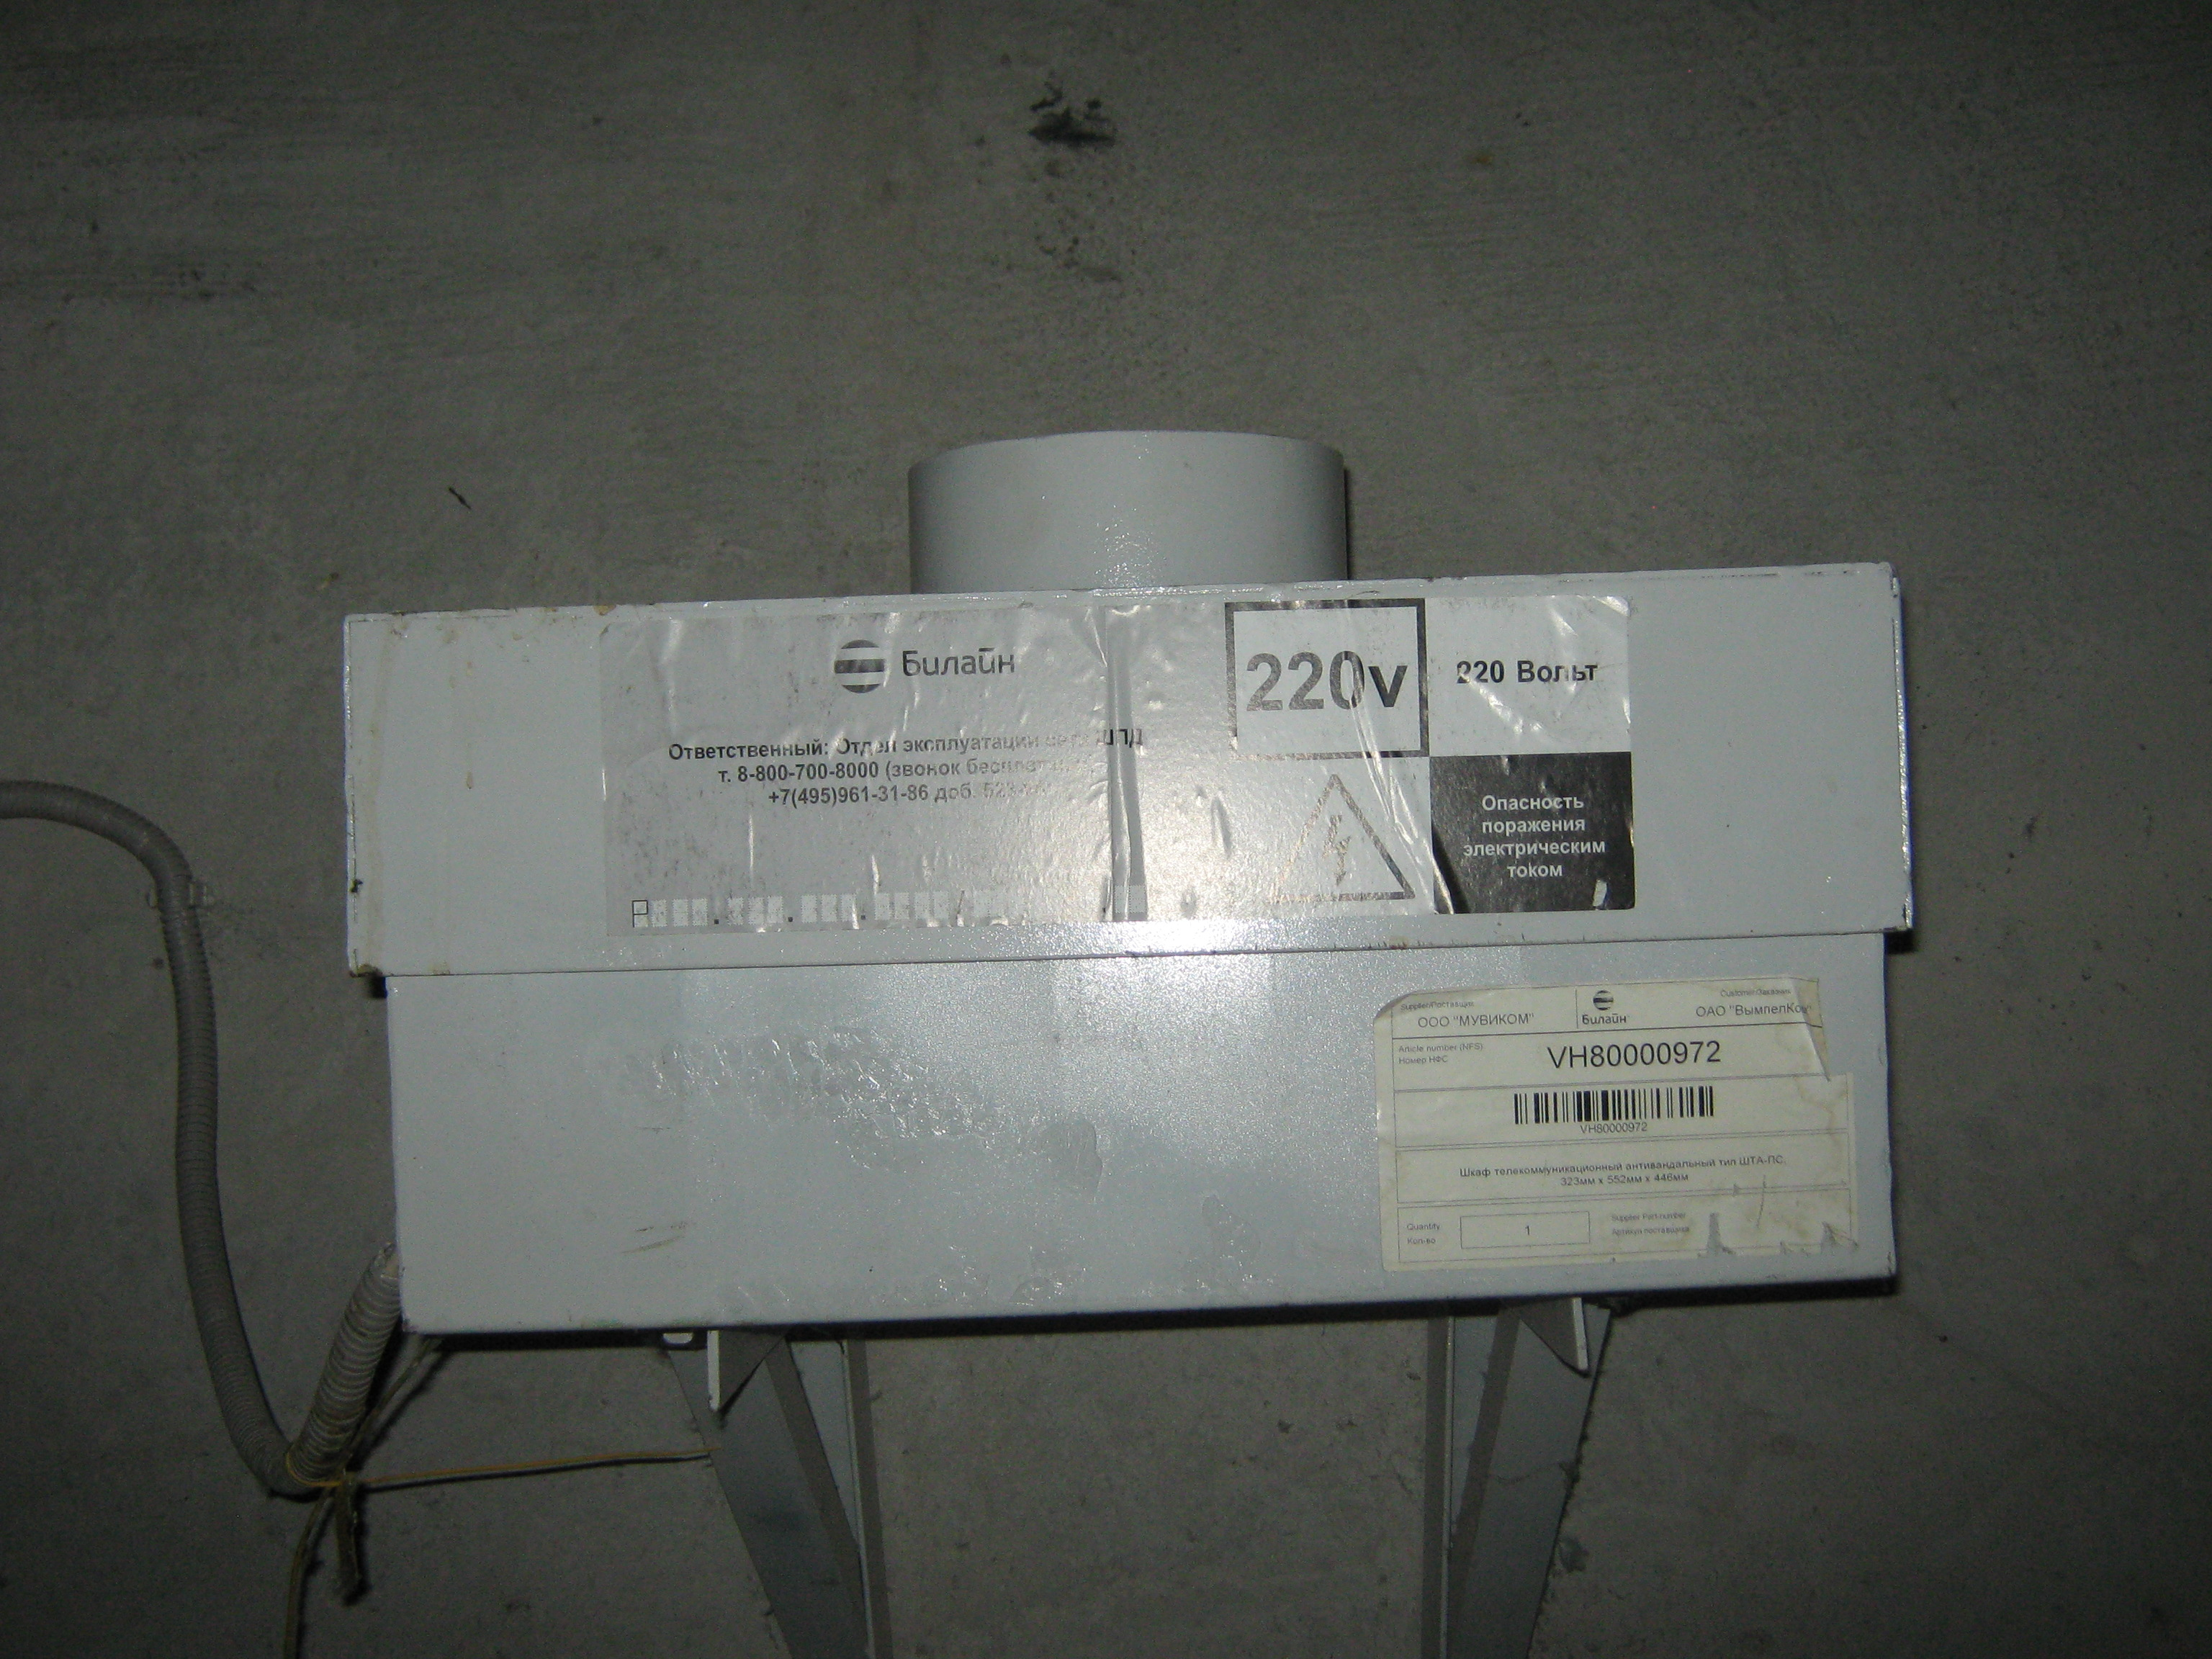shta-ps: (308, 394, 1933, 1399)
